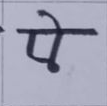e_matra: (37, 10, 67, 29)
